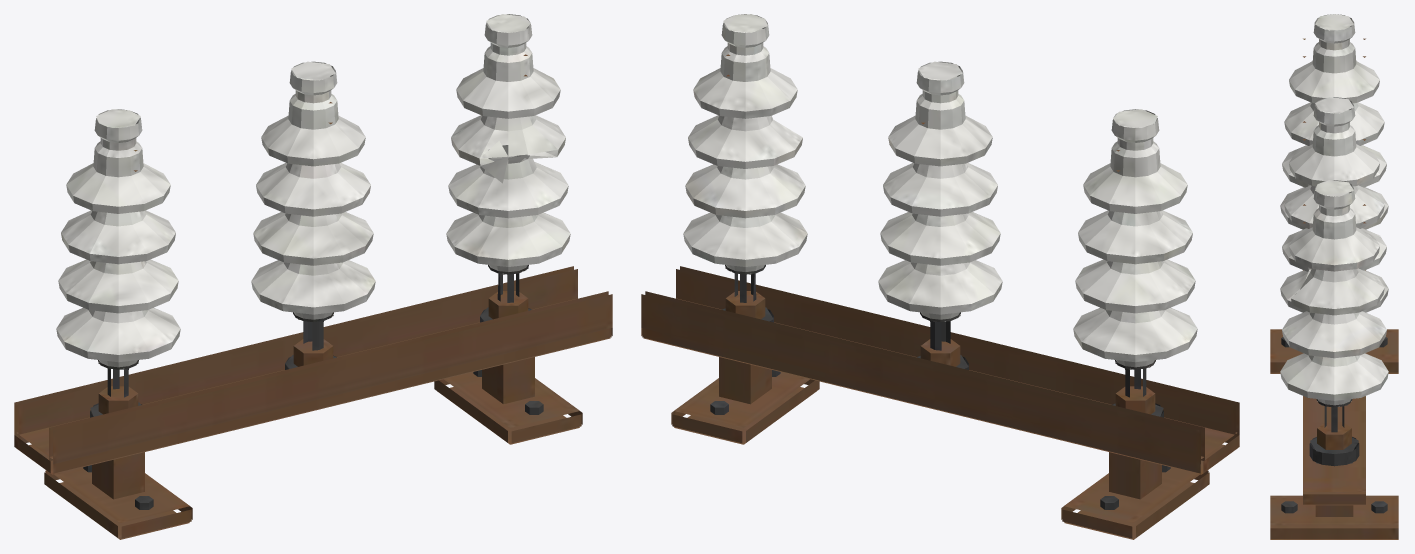
Rendered from U15_insulator_set.glb.
3 renders of one model, left to right at view 1: azimuth 30°, elevation 25°; view 2: azimuth 150°, elevation 25°; view 3: azimuth 270°, elevation 25°, orthographic. The views are drawn at different scales.
Parts seen in each view (by area): view 1: Mounting foot; view 2: Mounting foot; view 3: Mounting foot.
Boxes of the visible parts, left/top/right/bottom form: Mounting foot: left=14, top=14, right=612, bottom=539; Mounting foot: left=641, top=14, right=1239, bottom=539; Mounting foot: left=1270, top=14, right=1398, bottom=539.
Bounding box in the file's own units: 1 × 0.6561 × 0.2347.
Materials: 4 (4 with a texture image).
